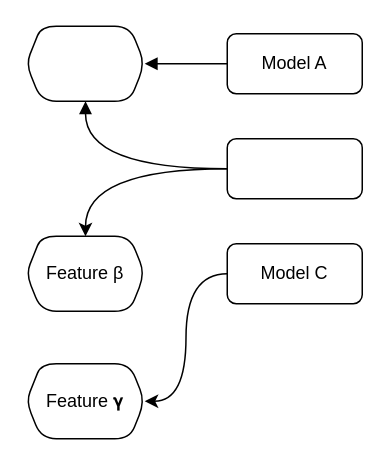
The diagram is 389 pixels wide and 465 high, and some of its shapes have lost their labels. The centre of each missing label's shape, as x and y in pixels:
"Feature ⍺" belongs at point 85,63.
"Model B" belongs at point 294,168.
